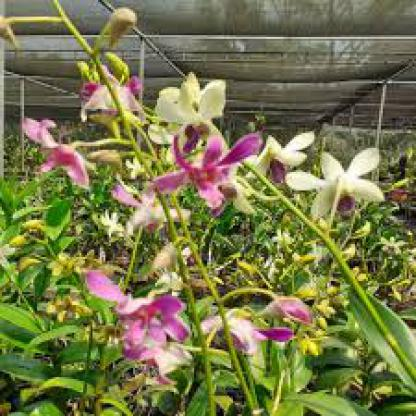ANGGREK: (25, 33, 399, 397)
